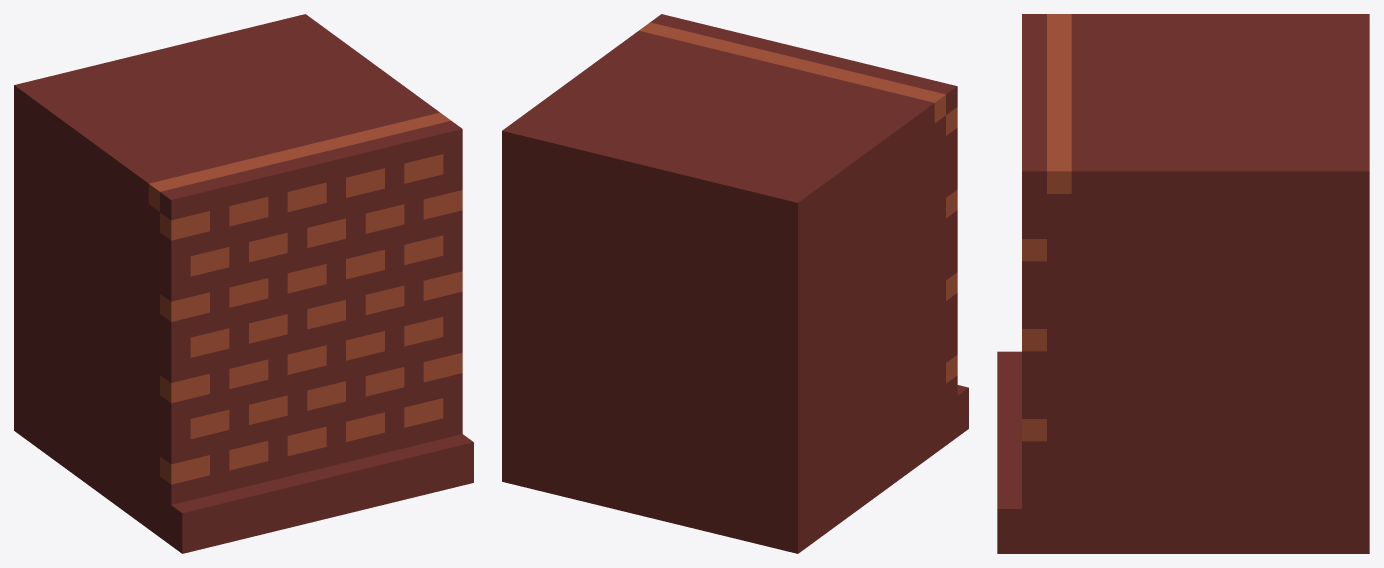
The model's file is dungeon_b_a_outer_wall_segment_a_flipped.obj.
3 views of the same model, side by side, from view 1: azimuth 30°, elevation 25°; view 2: azimuth 150°, elevation 25°; view 3: azimuth 270°, elevation 25° (orthographic). The views are drawn at different scales.
Size of the model in its own units: 1.5 by 1.7 by 1.5.
1 material, 1 textured.
